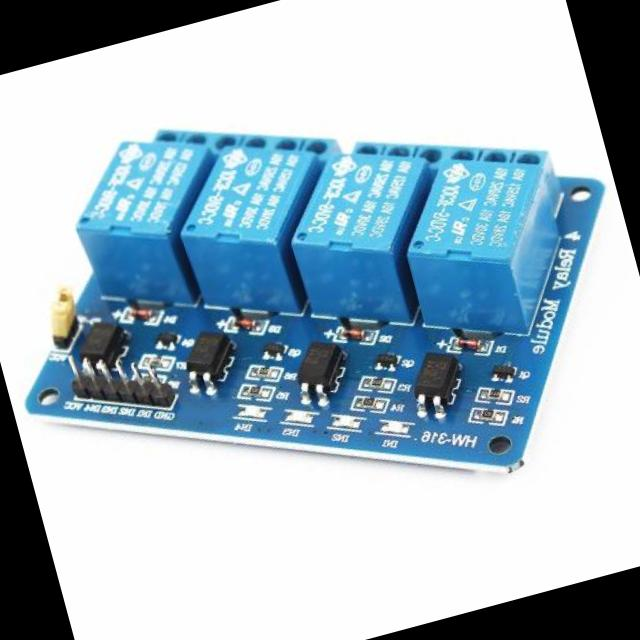IC: (403, 337, 473, 417), (174, 321, 242, 395), (286, 332, 354, 402), (68, 308, 134, 374)
LED: (330, 405, 362, 432), (237, 398, 265, 428), (283, 404, 312, 432), (377, 416, 408, 438)
connector: (50, 336, 172, 434), (30, 282, 84, 350)
diode: (228, 308, 271, 342), (127, 294, 165, 329), (451, 325, 486, 360), (339, 315, 377, 345)
resistor: (364, 368, 400, 397), (472, 400, 504, 430), (138, 346, 172, 374), (250, 360, 282, 385), (478, 380, 508, 406), (356, 390, 385, 414), (244, 380, 268, 402)
transistor: (486, 348, 522, 384), (256, 333, 290, 365), (147, 324, 180, 354), (370, 344, 400, 376)
